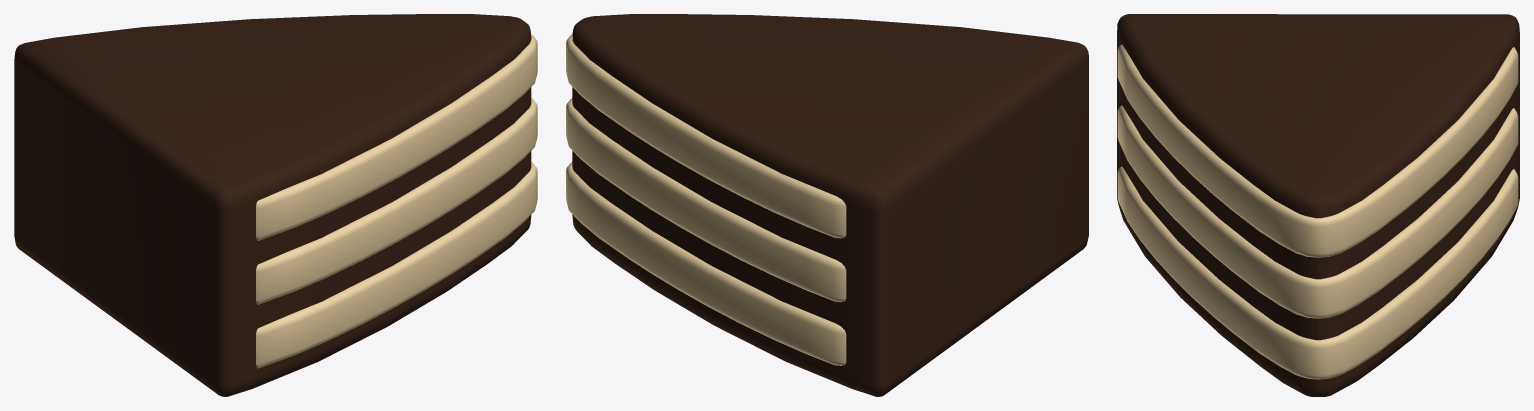
File: triangle.glb
The picture shows the model from 3 angles, left to right: view 1: azimuth 30°, elevation 25°; view 2: azimuth 150°, elevation 25°; view 3: azimuth 270°, elevation 25°; orthographic projection. The views are drawn at different scales.
Parts seen in each view (by area): view 1: Cream; view 2: Cream; view 3: Cream.
Part boxes in pixels (left/top/right/bottom): Cream: left=14, top=14, right=537, bottom=396; Cream: left=566, top=14, right=1088, bottom=396; Cream: left=1117, top=14, right=1519, bottom=396.
Bounding box in the file's own units: 21.3 × 10.16 × 18.58.
